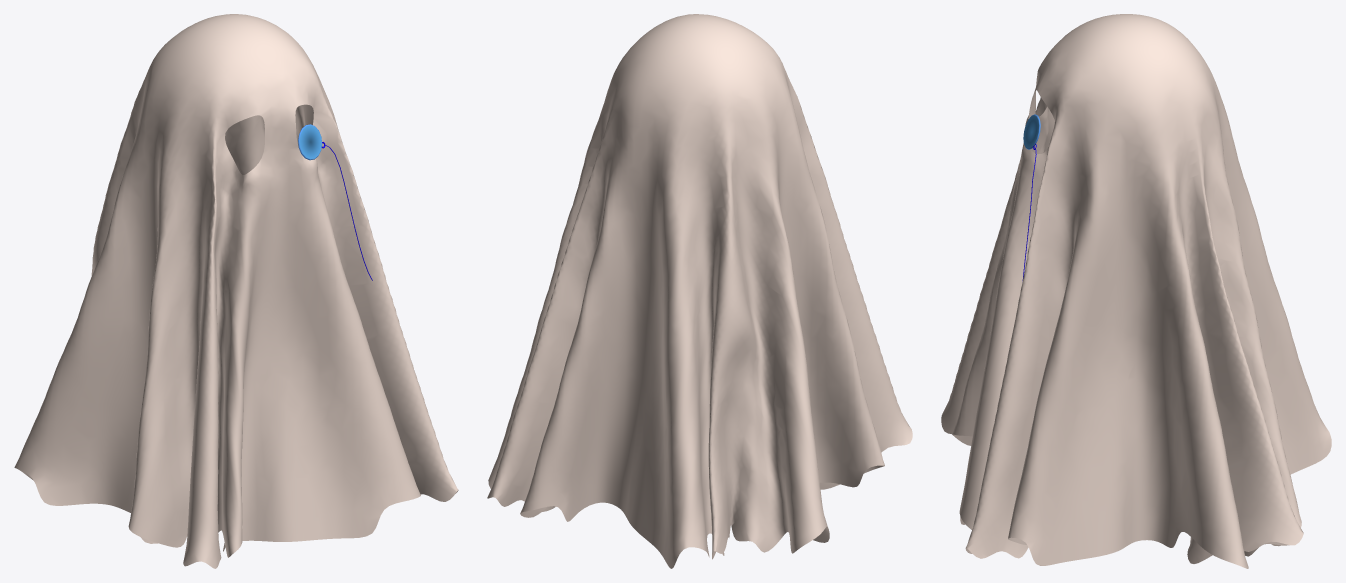
File: GhostGlass.fbx
The picture shows the model from 3 angles, left to right: view 1: azimuth 30°, elevation 25°; view 2: azimuth 150°, elevation 25°; view 3: azimuth 270°, elevation 25°; orthographic projection. The views are drawn at different scales.
Visible parts, largest first — view 1: BézierCurve; view 2: BézierCurve; view 3: BézierCurve.
Part boxes in pixels (x1,y1,x2,y2): BézierCurve: (14, 14, 458, 568); BézierCurve: (487, 14, 912, 568); BézierCurve: (941, 14, 1331, 568).
Bounding box in the file's own units: 99.43 × 139 × 101.
